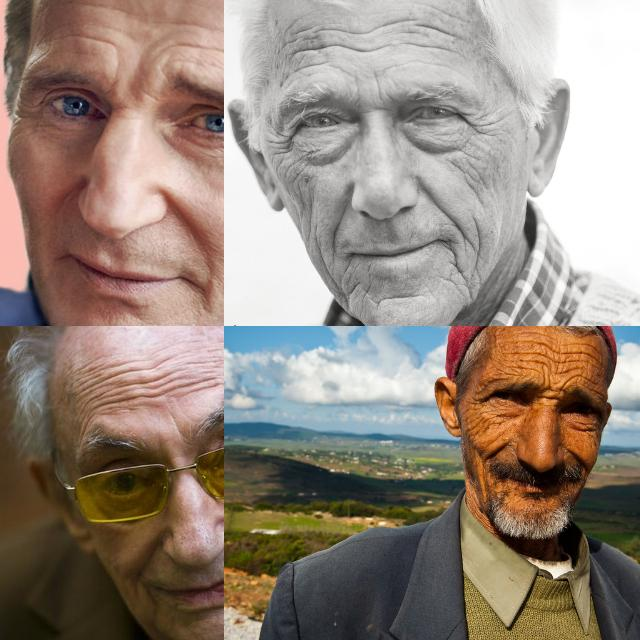chin: (376, 287, 422, 307), (347, 276, 367, 298)
crows_feet: (264, 124, 292, 164), (18, 94, 46, 132), (459, 112, 496, 136), (468, 387, 490, 413)
forehead: (168, 16, 224, 76), (69, 0, 121, 60), (72, 361, 128, 411), (342, 18, 400, 58), (411, 17, 465, 59), (282, 28, 334, 68), (137, 362, 179, 408), (184, 359, 224, 399), (578, 342, 600, 378), (496, 358, 530, 378), (550, 340, 572, 370), (512, 334, 544, 354), (538, 362, 554, 381)
frown_line: (166, 412, 188, 446), (368, 73, 390, 103), (542, 382, 562, 408)
gummy_smile: (164, 191, 204, 241), (420, 182, 454, 218), (56, 176, 85, 210), (134, 541, 158, 575), (329, 210, 346, 256), (484, 438, 508, 462), (568, 448, 590, 470)
masseter: (296, 183, 324, 244), (456, 157, 490, 200), (315, 253, 341, 290), (471, 216, 485, 274), (464, 421, 490, 441)
sad_smile: (440, 243, 468, 290), (138, 584, 162, 626)
